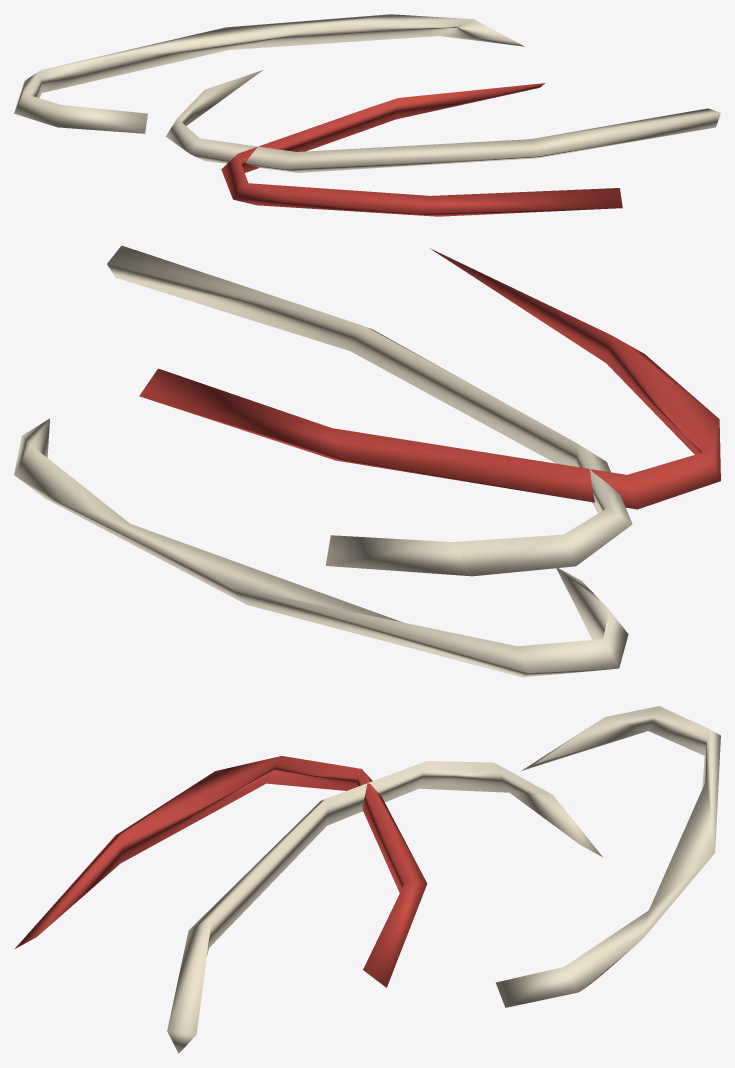
The model's file is den_gc_threads_lod1.glb.
The picture shows the model from 3 angles, top to bottom: view 1: azimuth 30°, elevation 25°; view 2: azimuth 150°, elevation 25°; view 3: azimuth 270°, elevation 25°; orthographic projection. The views are drawn at different scales.
Visible parts, largest first — view 1: den_gc_threads.001; view 2: den_gc_threads.001; view 3: den_gc_threads.001.
Boxes of the visible parts, box(x1,y1,x2,y2) form: den_gc_threads.001: box(14, 14, 720, 216); den_gc_threads.001: box(14, 245, 720, 677); den_gc_threads.001: box(15, 706, 720, 1053).
Size of the model in its own units: 2.13 by 0.0867 by 1.95.
